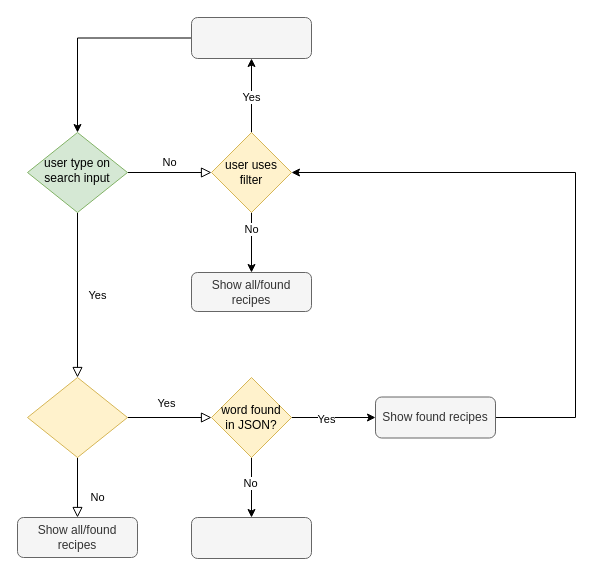
Some shapes in this 601 by 576 pixel diagram are drawn without their labels. Each missing label, with the box of its shape:
Show 0 recipe: (190, 516, 312, 558)
Show filtered recipe: (190, 16, 312, 58)
Text is >= 3 characters?: (26, 376, 128, 458)
